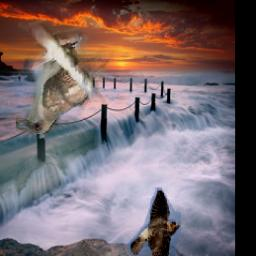Cuckoo: (17, 18, 150, 134)
Swallow: (129, 189, 182, 256)
